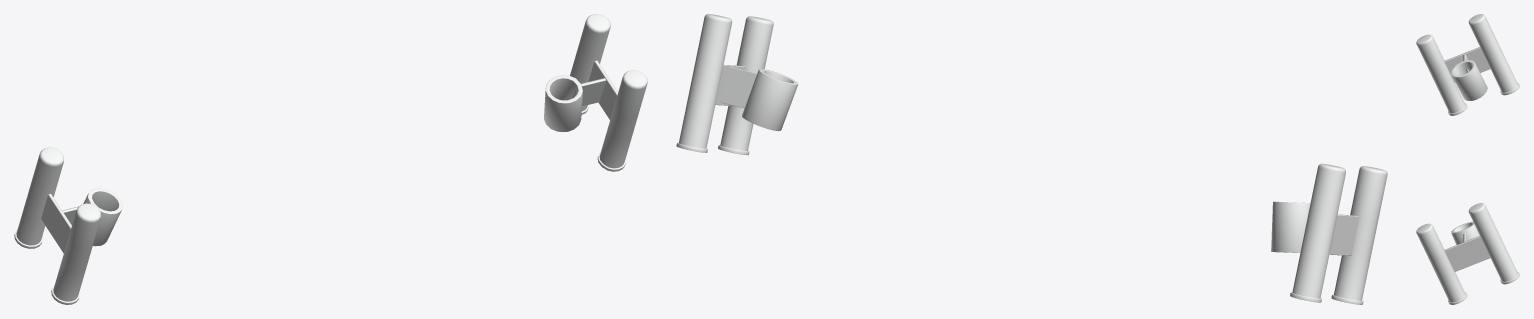
File: fishingRod.glb
3 views of the same model, side by side, from view 1: azimuth 30°, elevation 25°; view 2: azimuth 150°, elevation 25°; view 3: azimuth 270°, elevation 25° (orthographic). The views are drawn at different scales.
Visible parts, largest first — view 1: fishing rod; view 2: fishing rod; view 3: fishing rod.
Part boxes in pixels (x1,y1,x2,y2): fishing rod: (14, 14, 647, 304); fishing rod: (676, 14, 1387, 304); fishing rod: (1416, 14, 1519, 304).
Bounding box in the file's own units: 2.84 × 0.6598 × 0.6288.
Materials: 1 (1 with a texture image).
